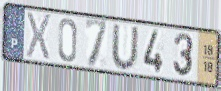0: (57, 17, 78, 64)
3: (171, 32, 195, 79)
4: (142, 29, 165, 76)
7: (85, 16, 110, 71)
U: (110, 24, 140, 72)
X: (25, 10, 53, 63)
